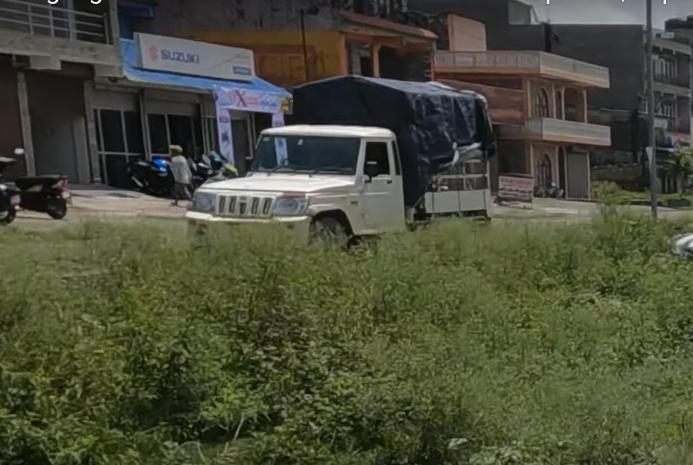scooter: (0, 142, 82, 234)
transport_vehicle: (188, 63, 502, 268)
